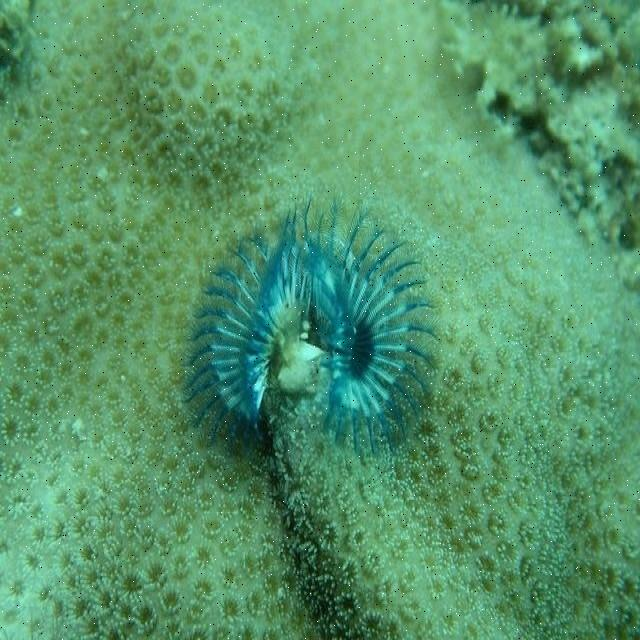reefs: (1, 1, 638, 638), (182, 190, 439, 458)
